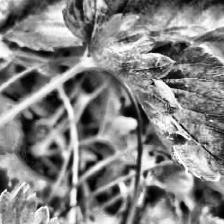Powdery Mildew Leaf: (88, 12, 224, 182)
